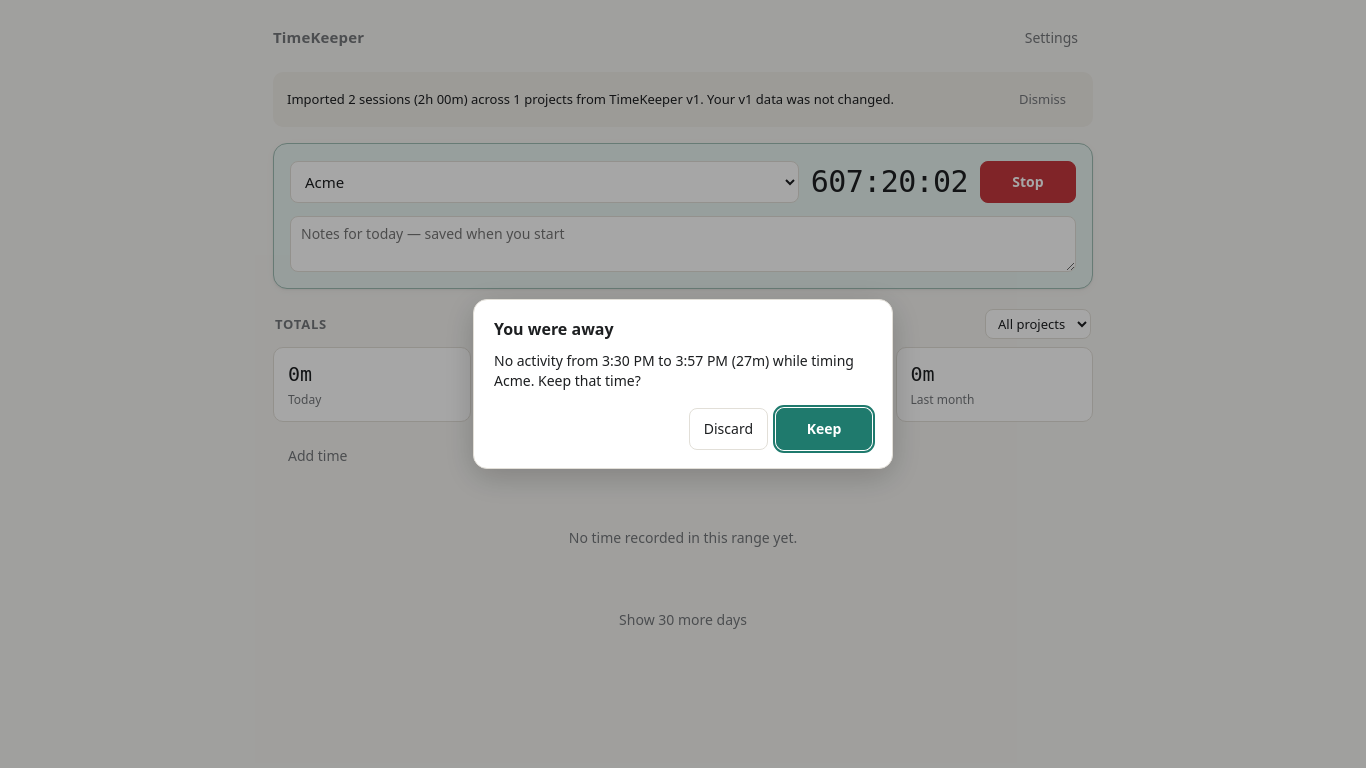
Test: App › puts the idle prompt over an inert app until it's answered
Expected: the dialog "You were away" shows "(27m) while timing Acme", 473,299 -> 893,469
Click the button "Keep" at (824, 429), box 776,408 -> 872,450
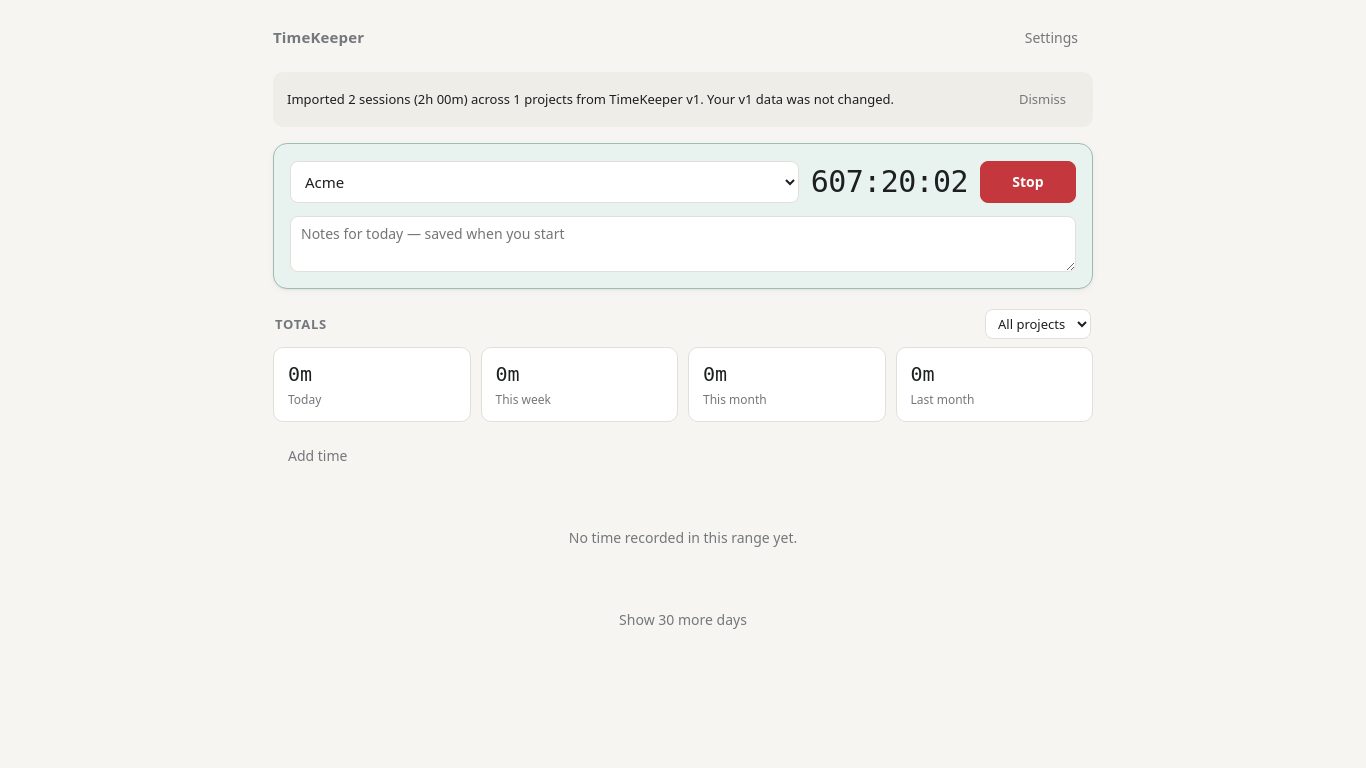
Now the dialog is gone
